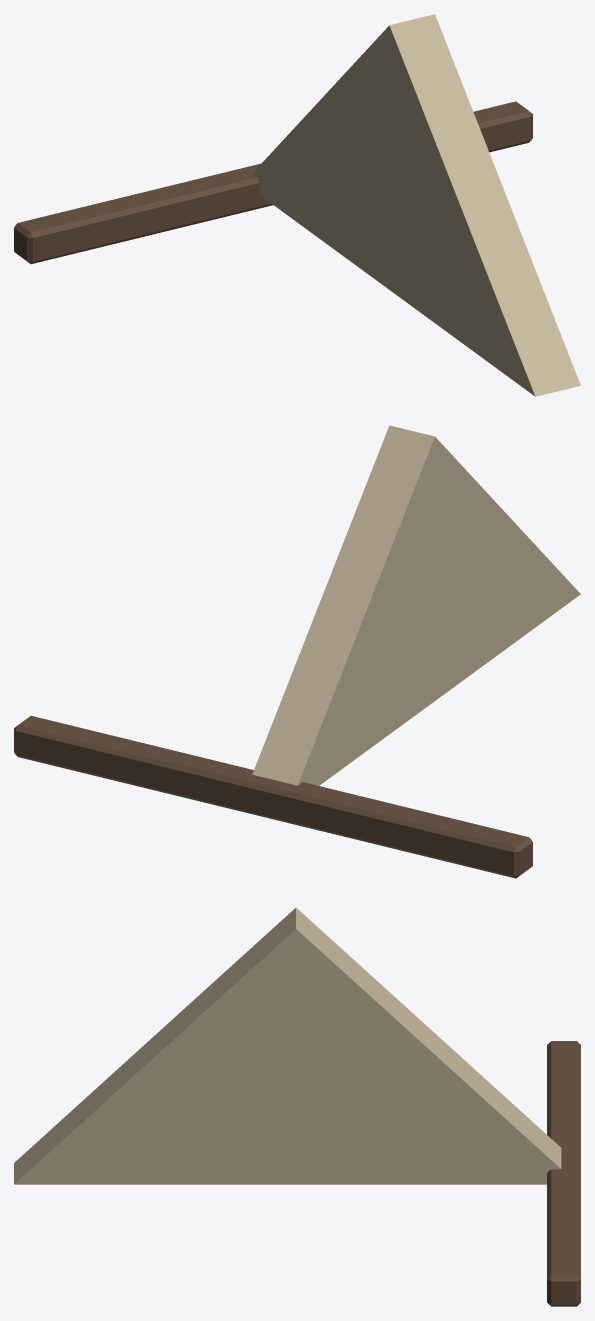
File: architecture-village-gable.lod0.glb
3 views of the same model, one above another, from view 1: azimuth 30°, elevation 25°; view 2: azimuth 150°, elevation 25°; view 3: azimuth 270°, elevation 25° (orthographic). The views are drawn at different scales.
Parts seen in each view (by area): view 1: architecture-village-gable__body; view 2: architecture-village-gable__body; view 3: architecture-village-gable__body.
Part boxes in pixels (box(x1,y1,x2,y2)): architecture-village-gable__body: box(14, 14, 580, 396); architecture-village-gable__body: box(14, 425, 580, 878); architecture-village-gable__body: box(14, 907, 580, 1306).
Bounding box in the file's own units: 2 × 1.06 × 2.01.
